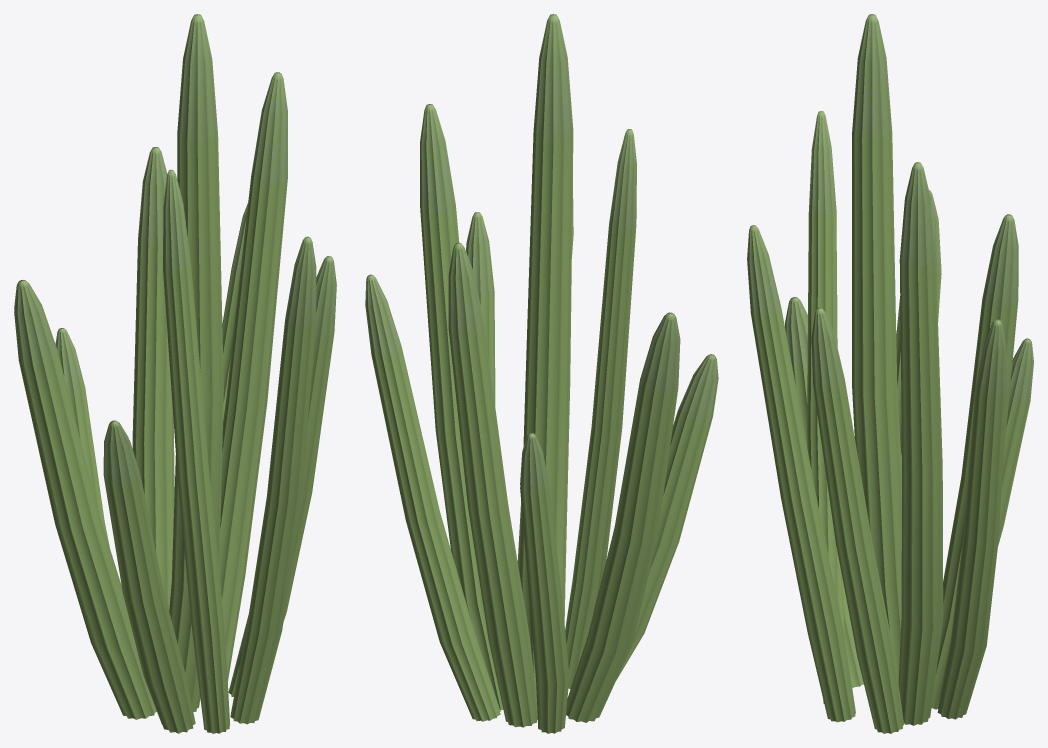
Rendered from LandFX_SC_Cactus_02.fbx.
3 views of the same model, side by side, from view 1: azimuth 30°, elevation 25°; view 2: azimuth 150°, elevation 25°; view 3: azimuth 270°, elevation 25° (orthographic). The views are drawn at different scales.
Parts seen in each view (by area): view 1: pipe8, pipe1, pipe7, pipe4, pipe10, pipe5, pipe2, pipe9, pipe6, pipe3; view 2: pipe7, pipe5, pipe1, pipe3, pipe4, pipe8, pipe6, pipe2, pipe9; view 3: pipe7, pipe8, pipe10, pipe9, pipe3, pipe4, pipe5, pipe6, pipe2, pipe1.
Part boxes in pixels (box(x1,y1,x2,y2)): pipe8: box(219, 72, 287, 681); pipe1: box(14, 280, 156, 719); pipe7: box(169, 14, 223, 711); pipe4: box(163, 169, 229, 733); pipe10: box(230, 236, 316, 724); pipe5: box(132, 147, 174, 610); pipe2: box(103, 420, 195, 733); pipe9: box(228, 256, 336, 696); pipe6: box(55, 328, 109, 547); pipe3: box(222, 202, 248, 421); pipe7: box(519, 14, 573, 699); pipe5: box(448, 242, 537, 727); pipe1: box(566, 312, 680, 722); pipe3: box(365, 274, 500, 721); pipe4: box(565, 129, 636, 688); pipe8: box(420, 104, 503, 710); pipe6: box(520, 433, 569, 733); pipe2: box(616, 354, 718, 680); pipe9: box(466, 212, 495, 405); pipe7: box(852, 14, 901, 683); pipe8: box(898, 162, 943, 725); pipe10: box(747, 225, 855, 722); pipe9: box(811, 307, 903, 733); pipe3: box(937, 319, 1006, 719); pipe4: box(807, 111, 845, 703); pipe5: box(931, 214, 1018, 709); pipe6: box(998, 338, 1033, 545); pipe2: box(785, 297, 863, 687); pipe1: box(896, 190, 941, 464).
Size of the model in its own units: 1.19 by 2.8 by 1.06.
